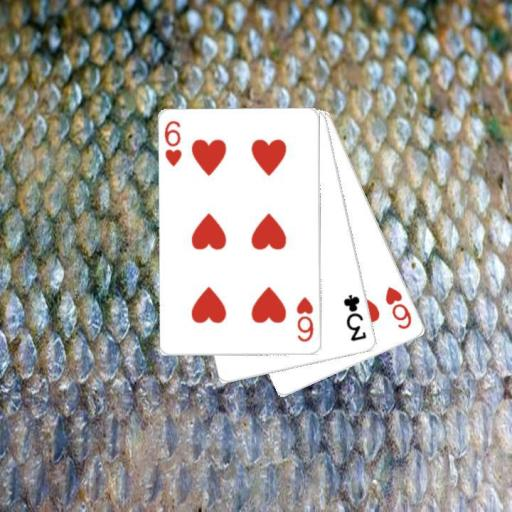3C: (341, 292, 368, 344)
6H: (382, 284, 414, 331), (294, 295, 316, 345), (162, 118, 184, 168)
